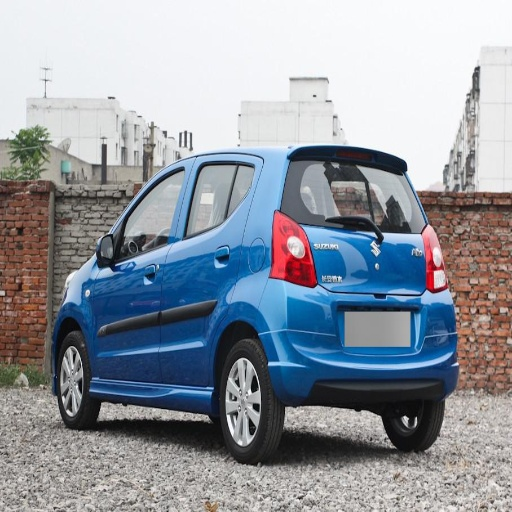back_bumper: (266, 281, 452, 401)
back_glass: (283, 159, 422, 230)
back_left_door: (160, 160, 252, 384)
trunk: (309, 229, 444, 349)
